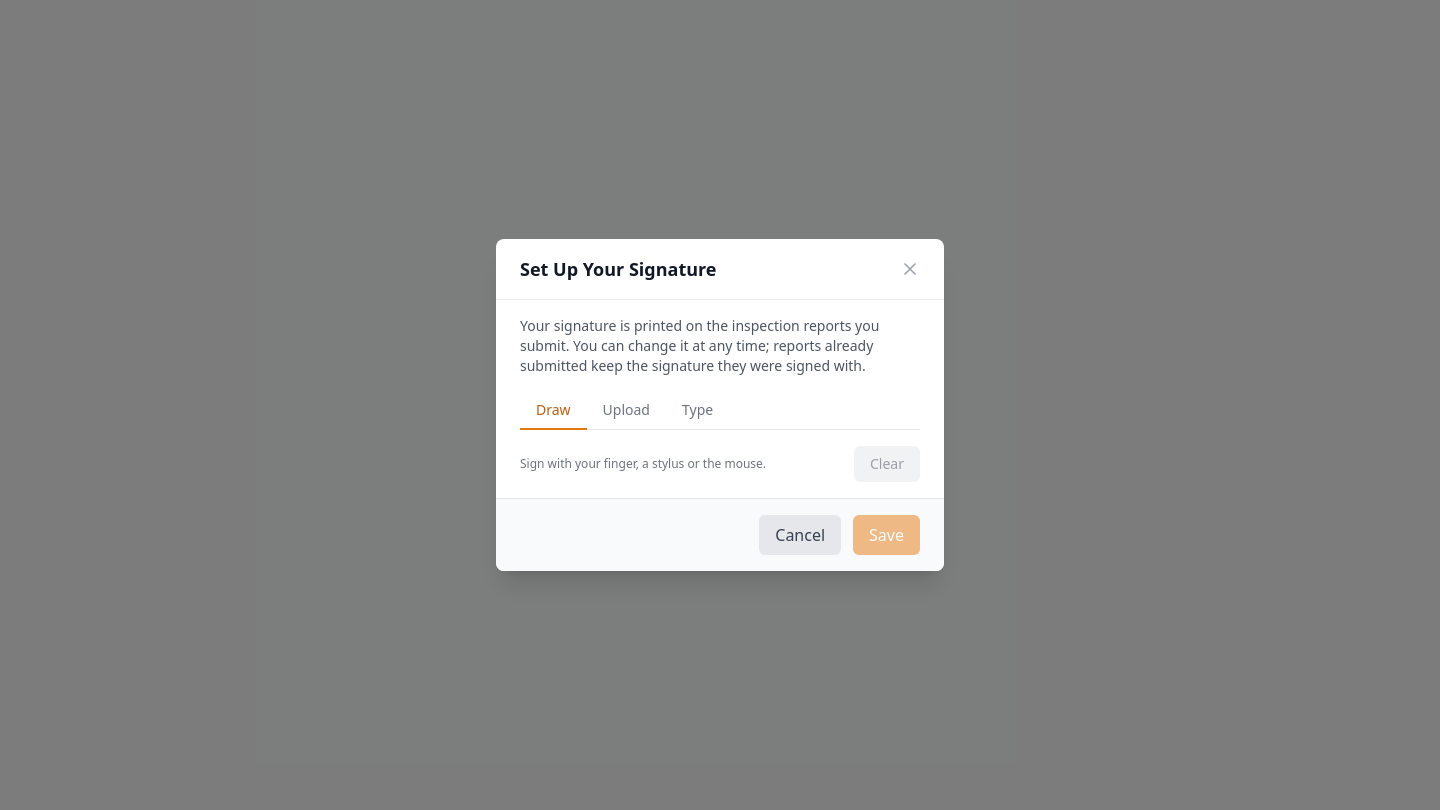
Test: SignatureSetupModal — Type tab › starts with the user's name, in the first font, ready to save
Click the tab "Type": (698, 411) [666, 392, 729, 430]
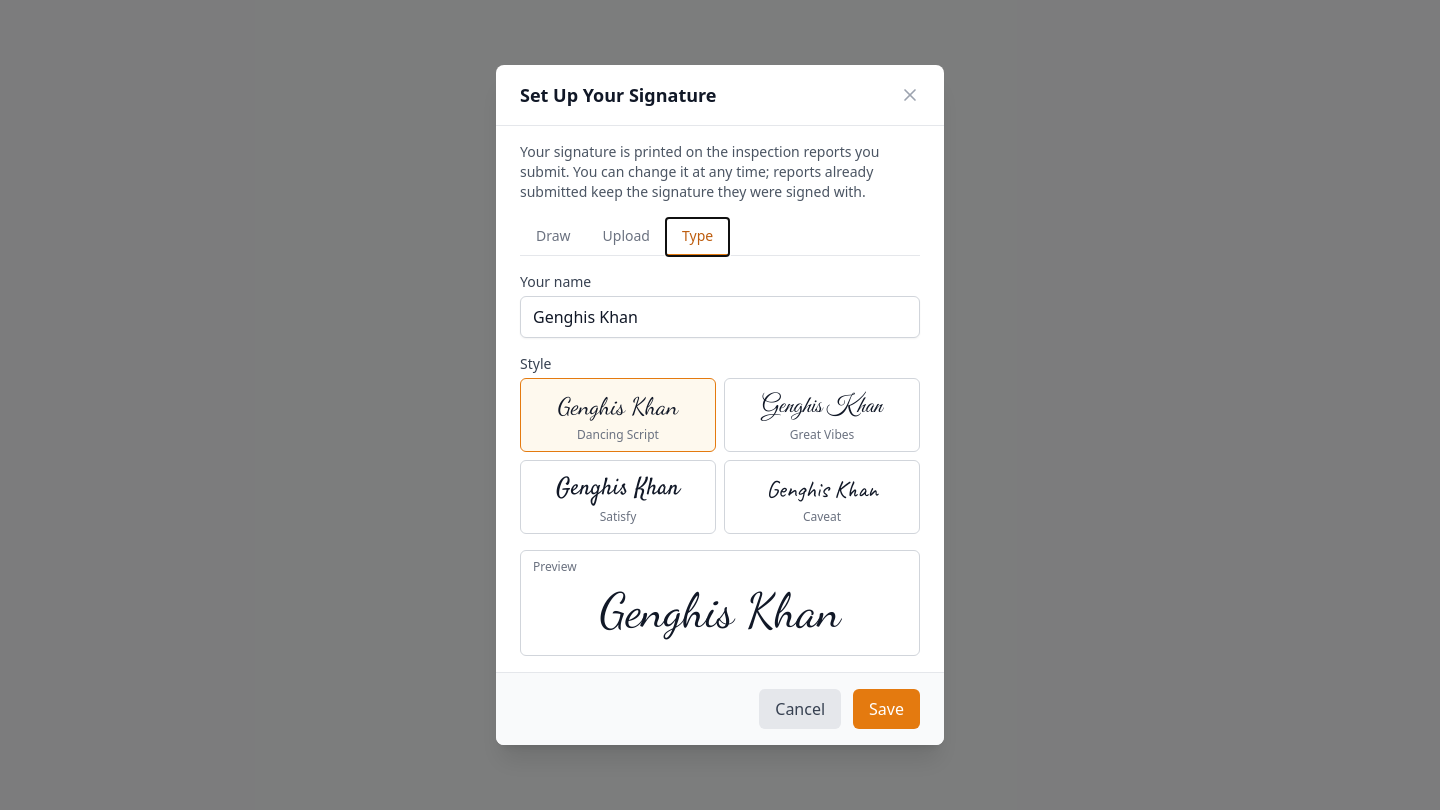
Expected: the field labelled "Your name" holds "Genghis Khan", [520, 296, 920, 338]
Expected: the text with test id "typed-preview" reads "Genghis Khan", [600, 582, 841, 639]
Expected: the button "Save" is enabled, [853, 689, 920, 729]
